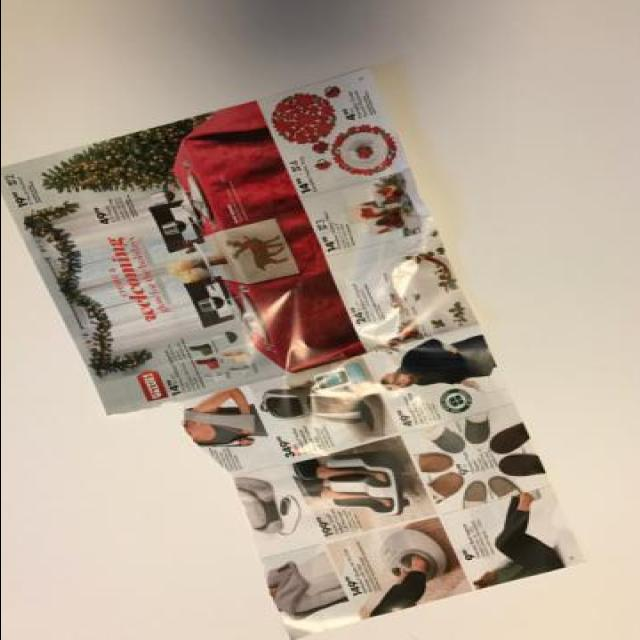kertas: (0, 62, 587, 640)
